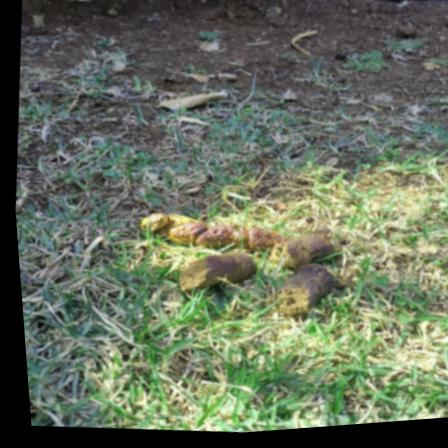dog-poop: (141, 212, 336, 329)
